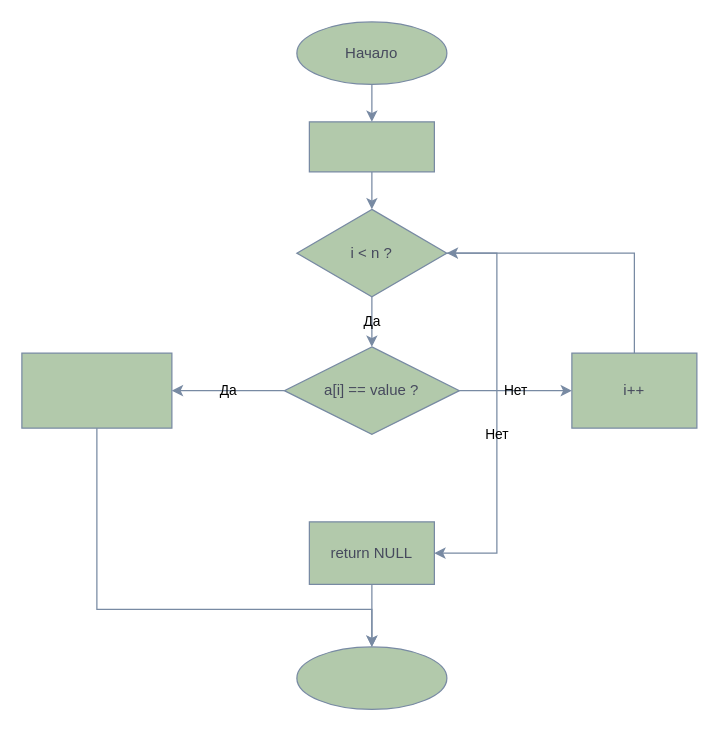
The diagram is 719 pixels wide and 731 high, and some of its shapes have lost their labels. Each missing label, with the centre of its shape:
"i = 0" belongs at [371,146].
"return &a[i]" belongs at [96,390].
"Конец" belongs at [371,677].
